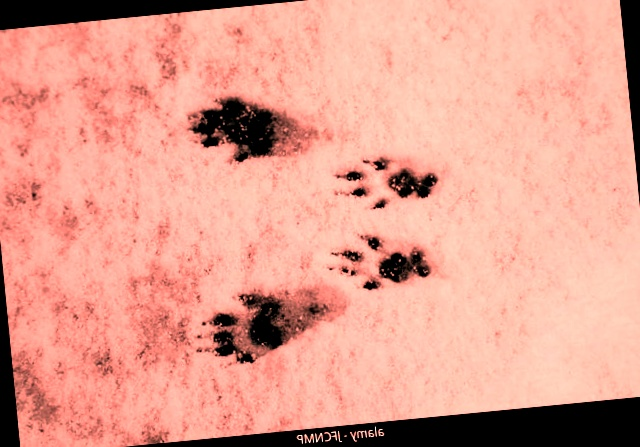ecureuil: (165, 71, 326, 181), (185, 279, 342, 381), (316, 219, 444, 306), (325, 134, 448, 217)
